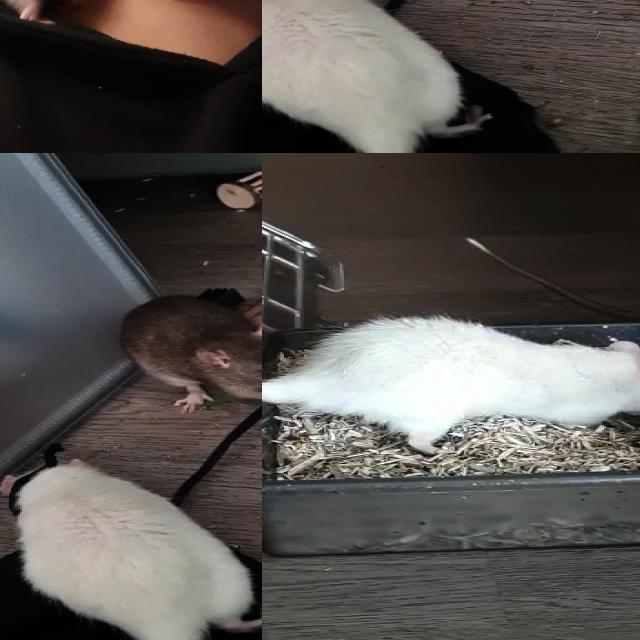rat: (286, 316, 640, 455), (0, 458, 251, 640), (262, 0, 468, 153), (113, 292, 262, 413)
